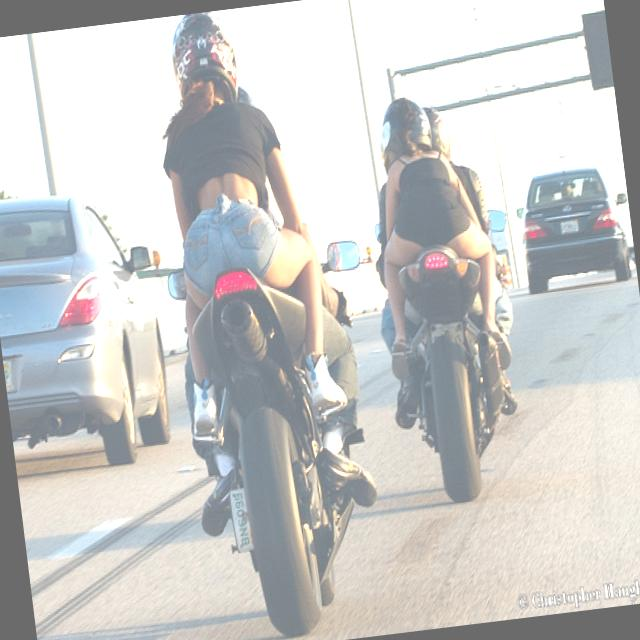Vehicle: (166, 257, 395, 640), (0, 178, 184, 478), (375, 234, 524, 508), (513, 165, 635, 292)
